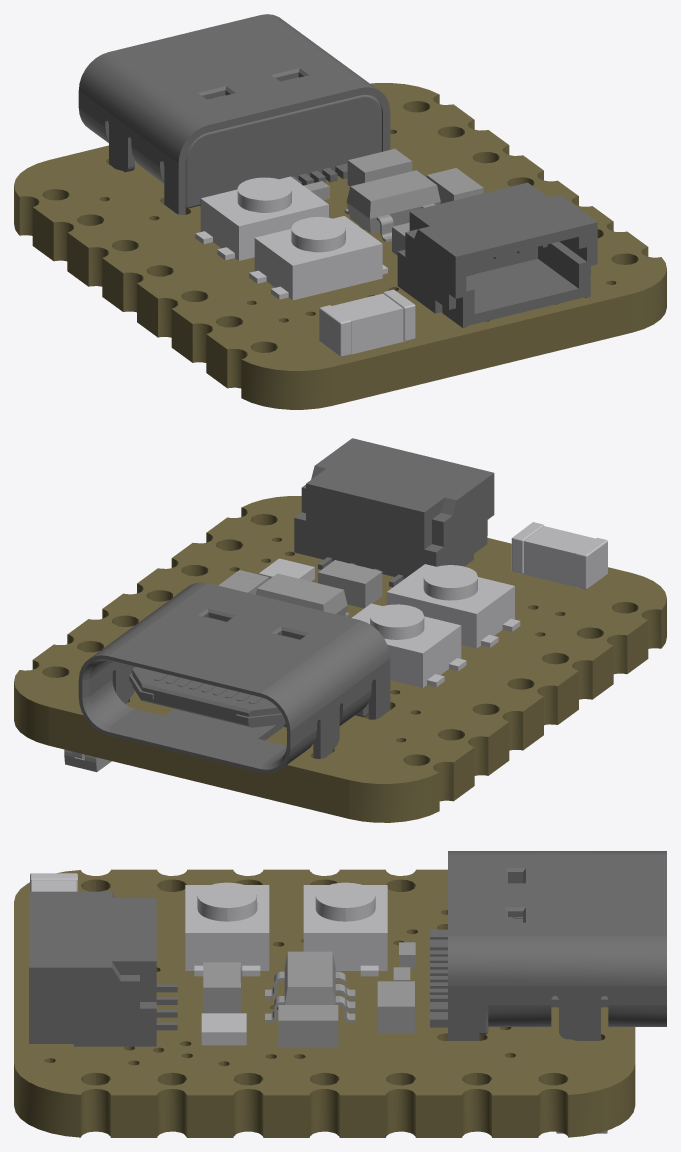
File: ada-5426.glb
3 renders of one model, top to bottom at view 1: azimuth 30°, elevation 25°; view 2: azimuth 150°, elevation 25°; view 3: azimuth 270°, elevation 25°, orthographic. The views are drawn at different scales.
Parts seen in each view (by area): view 1: 0.16666666666666666_0.16666666666666666_0.08333333333333333_, 0.16666666666666666_0.16666666666666666_0.16666666666666666_, 0.5833333333333334_0.5833333333333334_0.5833333333333334_0.8, 0.3333333333333333_0.3333333333333333_0.3333333333333333_0; view 2: 0.16666666666666666_0.16666666666666666_0.08333333333333333_, 0.16666666666666666_0.16666666666666666_0.16666666666666666_, 0.5833333333333334_0.5833333333333334_0.5833333333333334_0.8, 0.3333333333333333_0.3333333333333333_0.3333333333333333_0; view 3: 0.16666666666666666_0.16666666666666666_0.08333333333333333_, 0.16666666666666666_0.16666666666666666_0.16666666666666666_, 0.5833333333333334_0.5833333333333334_0.5833333333333334_0.8, 0.3333333333333333_0.3333333333333333_0.3333333333333333_0.
Part boxes in pixels (box(x1,y1,x2,y2)): 0.16666666666666666_0.16666666666666666_0.08333333333333333_: box(14, 83, 666, 409); 0.16666666666666666_0.16666666666666666_0.16666666666666666_: box(78, 14, 597, 327); 0.5833333333333334_0.5833333333333334_0.5833333333333334_0.8: box(195, 176, 415, 356); 0.3333333333333333_0.3333333333333333_0.3333333333333333_0: box(303, 148, 483, 255); 0.16666666666666666_0.16666666666666666_0.08333333333333333_: box(14, 496, 666, 822); 0.16666666666666666_0.16666666666666666_0.16666666666666666_: box(78, 438, 494, 773); 0.5833333333333334_0.5833333333333334_0.5833333333333334_0.8: box(258, 522, 607, 687); 0.3333333333333333_0.3333333333333333_0.3333333333333333_0: box(64, 560, 382, 771); 0.16666666666666666_0.16666666666666666_0.08333333333333333_: box(14, 869, 635, 1137); 0.16666666666666666_0.16666666666666666_0.16666666666666666_: box(29, 851, 666, 1046); 0.5833333333333334_0.5833333333333334_0.5833333333333334_0.8: box(30, 873, 387, 1045); 0.3333333333333333_0.3333333333333333_0.3333333333333333_0: box(203, 942, 607, 1133).
Bounding box in the file's own units: 1.78 × 0.587 × 2.18.
